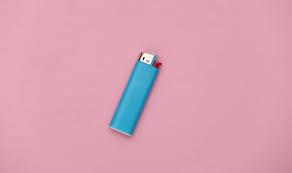lighter: (110, 51, 163, 138)
